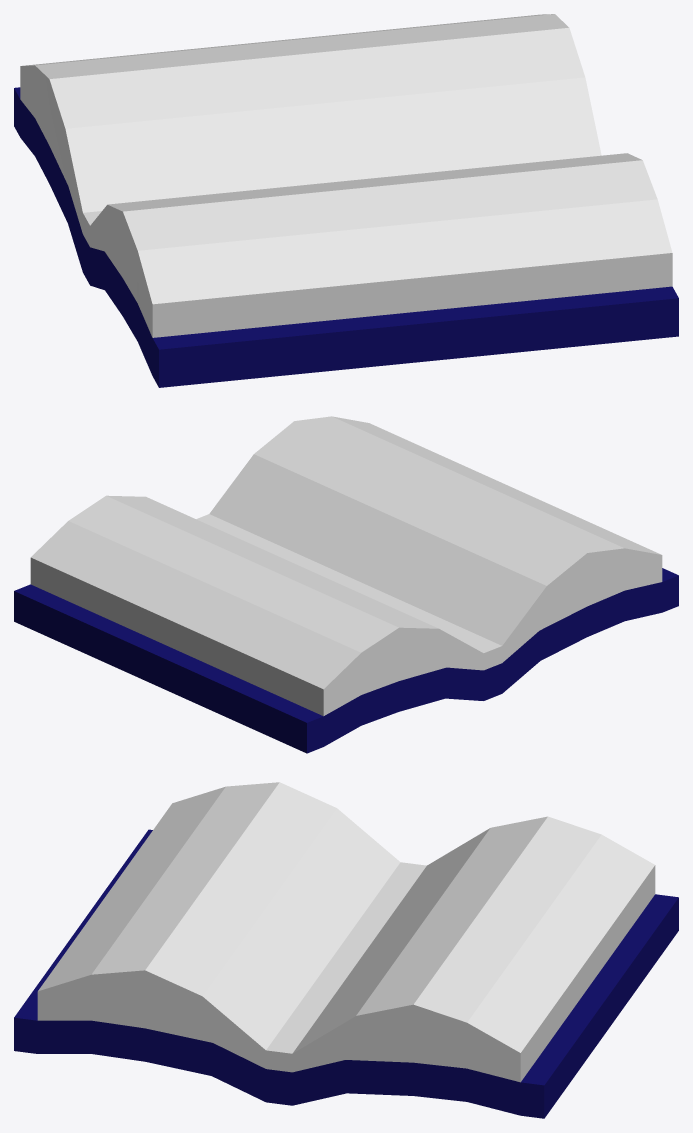
File: book-active.glb
3 renders of one model, top to bottom at view 1: azimuth 30°, elevation 25°; view 2: azimuth 150°, elevation 25°; view 3: azimuth 270°, elevation 25°, orthographic. The views are drawn at different scales.
Parts seen in each view (by area): view 1: opened_book; view 2: opened_book; view 3: opened_book.
Boxes of the visible parts, bbox=[...] form: opened_book: bbox=[14, 14, 678, 387]; opened_book: bbox=[14, 416, 678, 753]; opened_book: bbox=[14, 782, 678, 1118].
Bounding box in the file's own units: 1.04 × 0.2205 × 1.14.
